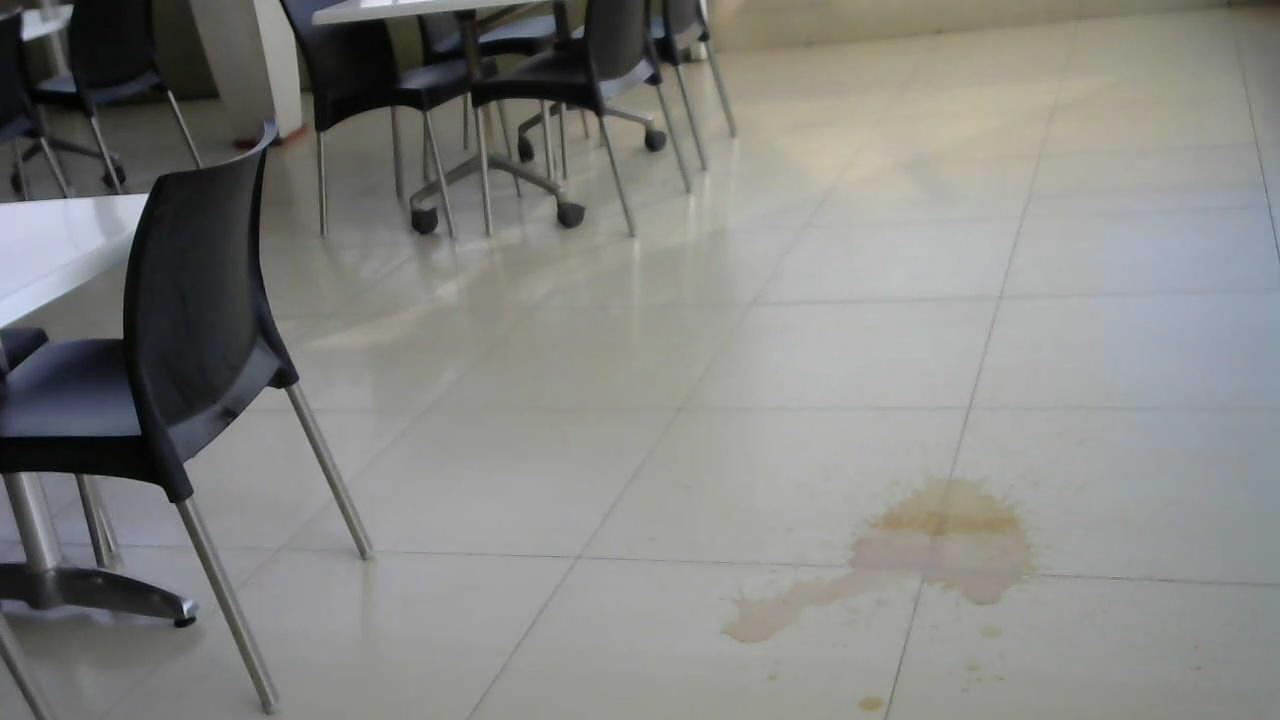dirty_floor: (721, 450, 1048, 720)
